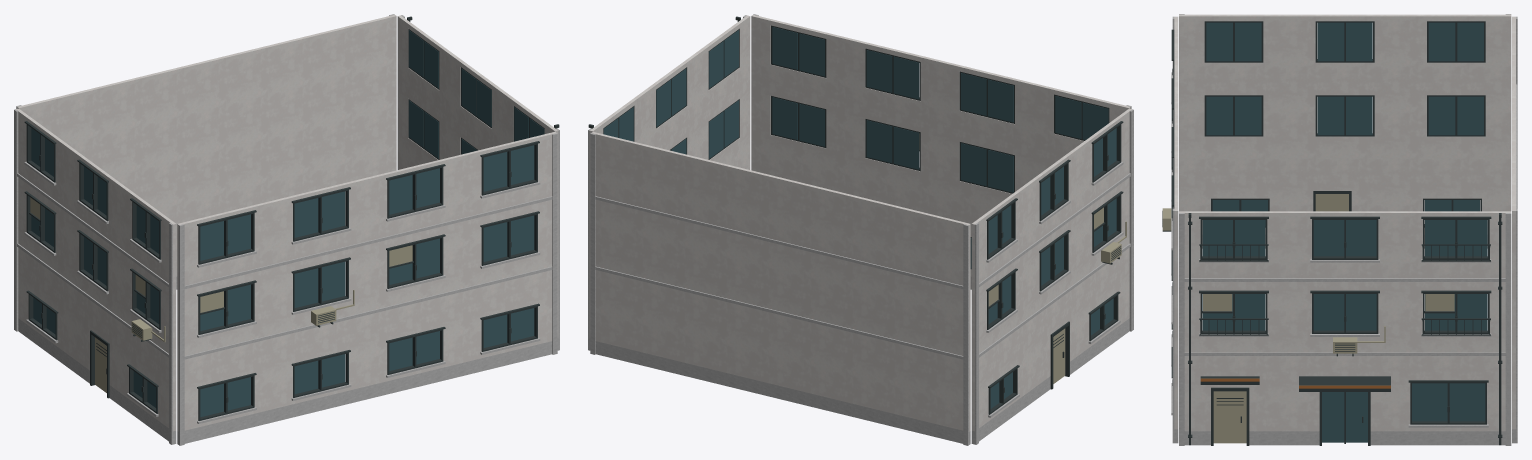
Rendered from v-a08-facade.glb.
The picture shows the model from 3 angles, left to right: view 1: azimuth 30°, elevation 25°; view 2: azimuth 150°, elevation 25°; view 3: azimuth 270°, elevation 25°; orthographic projection. The views are drawn at different scales.
Parts seen in each view (by area): view 1: V_A08_Facade; view 2: V_A08_Facade; view 3: V_A08_Facade.
Boxes of the visible parts, x1=… form: V_A08_Facade: x1=14, y1=14, x2=559, y2=445; V_A08_Facade: x1=588, y1=14, x2=1133, y2=445; V_A08_Facade: x1=1162, y1=14, x2=1517, y2=445.
Size of the model in its own units: 20.01 by 10.06 by 13.91.
6 materials, 2 textured.
